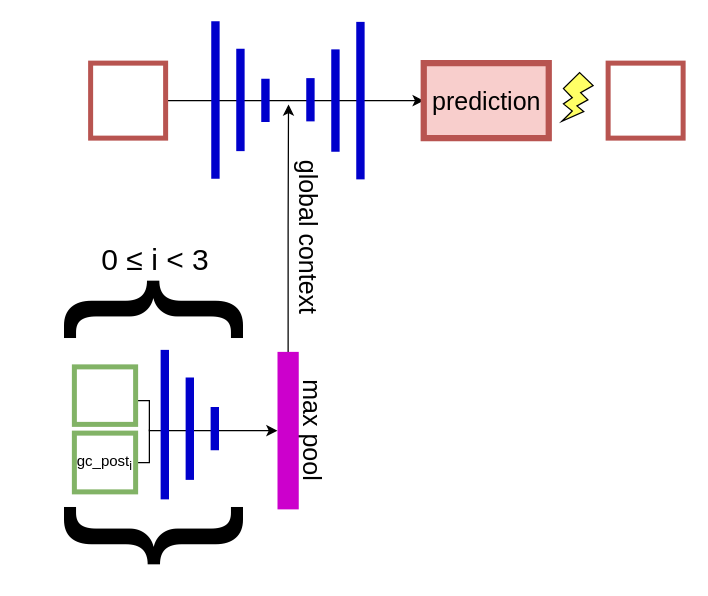
Image size: 708x596. Some labels were removed from this diagram. Here are the shapes that lost their labels. From the top down, the centre of each, then its label:
(128,100): day 0
(645,100): day 6
(104,395): gc_pre i
